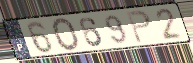2: (155, 7, 184, 41)
6: (26, 19, 54, 55), (79, 17, 104, 48)
9: (104, 13, 129, 45)
O: (51, 17, 82, 54)
P: (125, 9, 153, 45)
